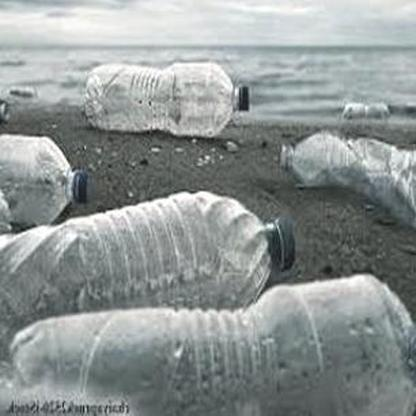plastic bottle: (7, 273, 416, 416), (1, 191, 295, 334), (280, 131, 416, 224), (83, 63, 249, 136), (1, 129, 89, 222)
